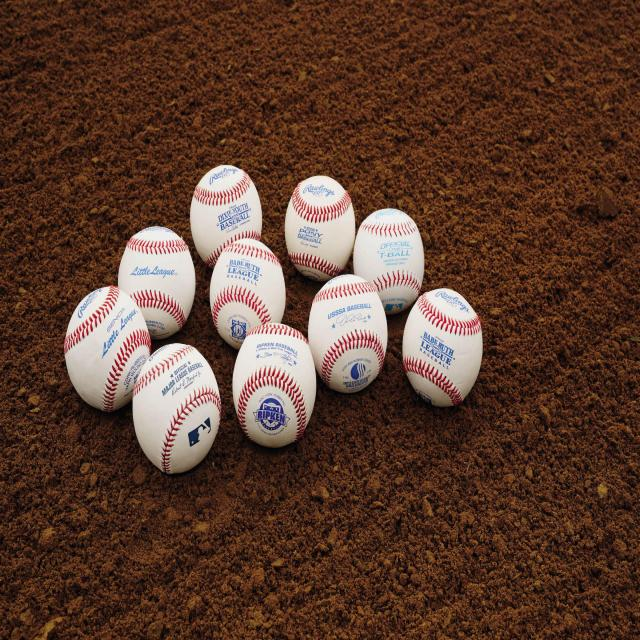baseball: (131, 342, 221, 470), (400, 288, 483, 406), (234, 324, 316, 443), (307, 274, 389, 390), (60, 284, 139, 404), (120, 226, 196, 334), (208, 234, 286, 334), (285, 173, 354, 271), (352, 207, 422, 299), (189, 167, 260, 247)
